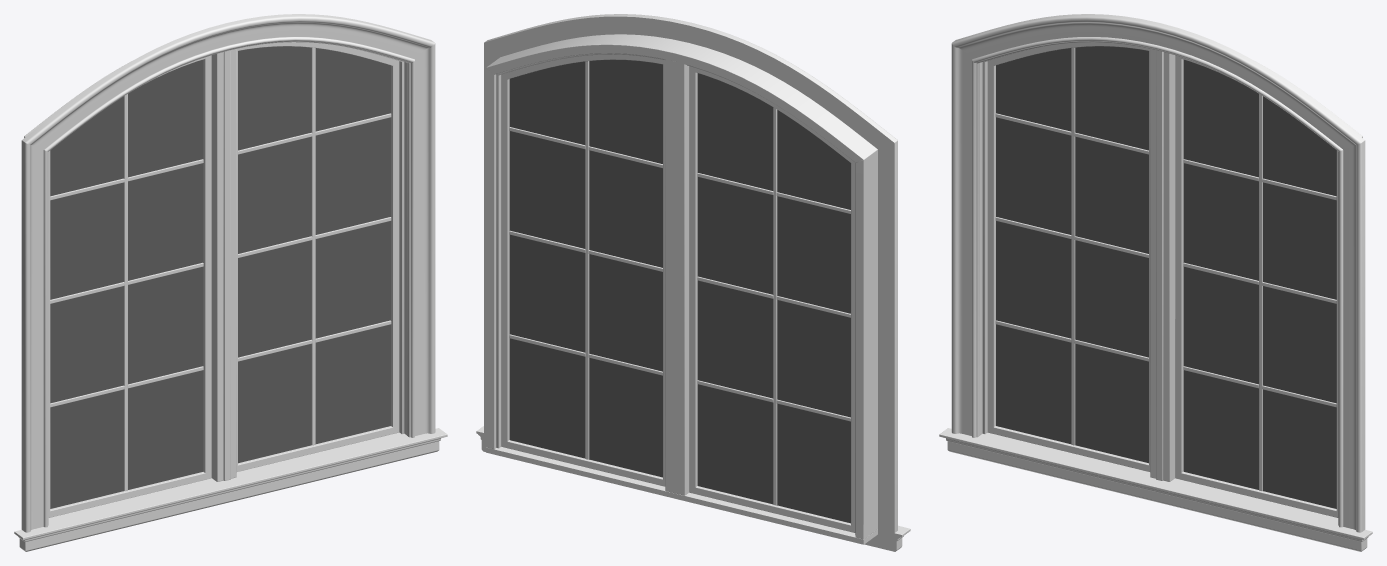
3 renders of one model, left to right at view 1: azimuth 30°, elevation 25°; view 2: azimuth 150°, elevation 25°; view 3: azimuth 330°, elevation 25°, orthographic.
Parts seen in each view (by area): view 1: Rectangle007 (×2); view 2: Rectangle007 (×2); view 3: Rectangle007 (×2).
Boxes of the visible parts, x1,y1,x2,y2 form: Rectangle007 (×2): (14,14,447,551); Rectangle007 (×2): (476,14,910,551); Rectangle007 (×2): (939,14,1372,551).
Size of the model in its own units: 259 by 277 by 24.25.
2 materials, 2 textured.
